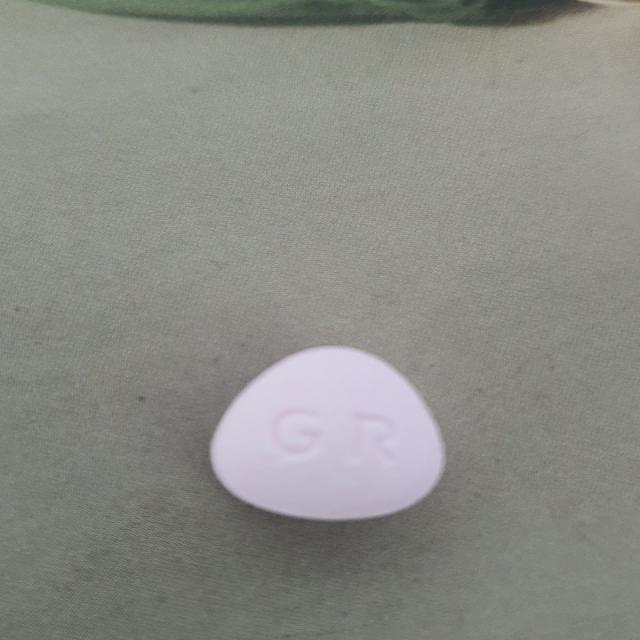pill: (186, 329, 466, 528)
